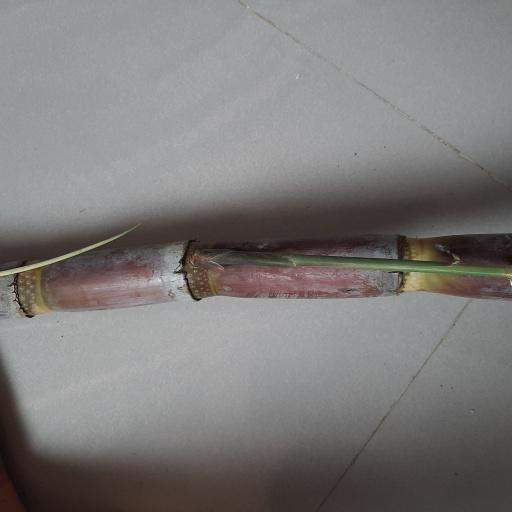Sprouted_Bud: (187, 247, 266, 269)
